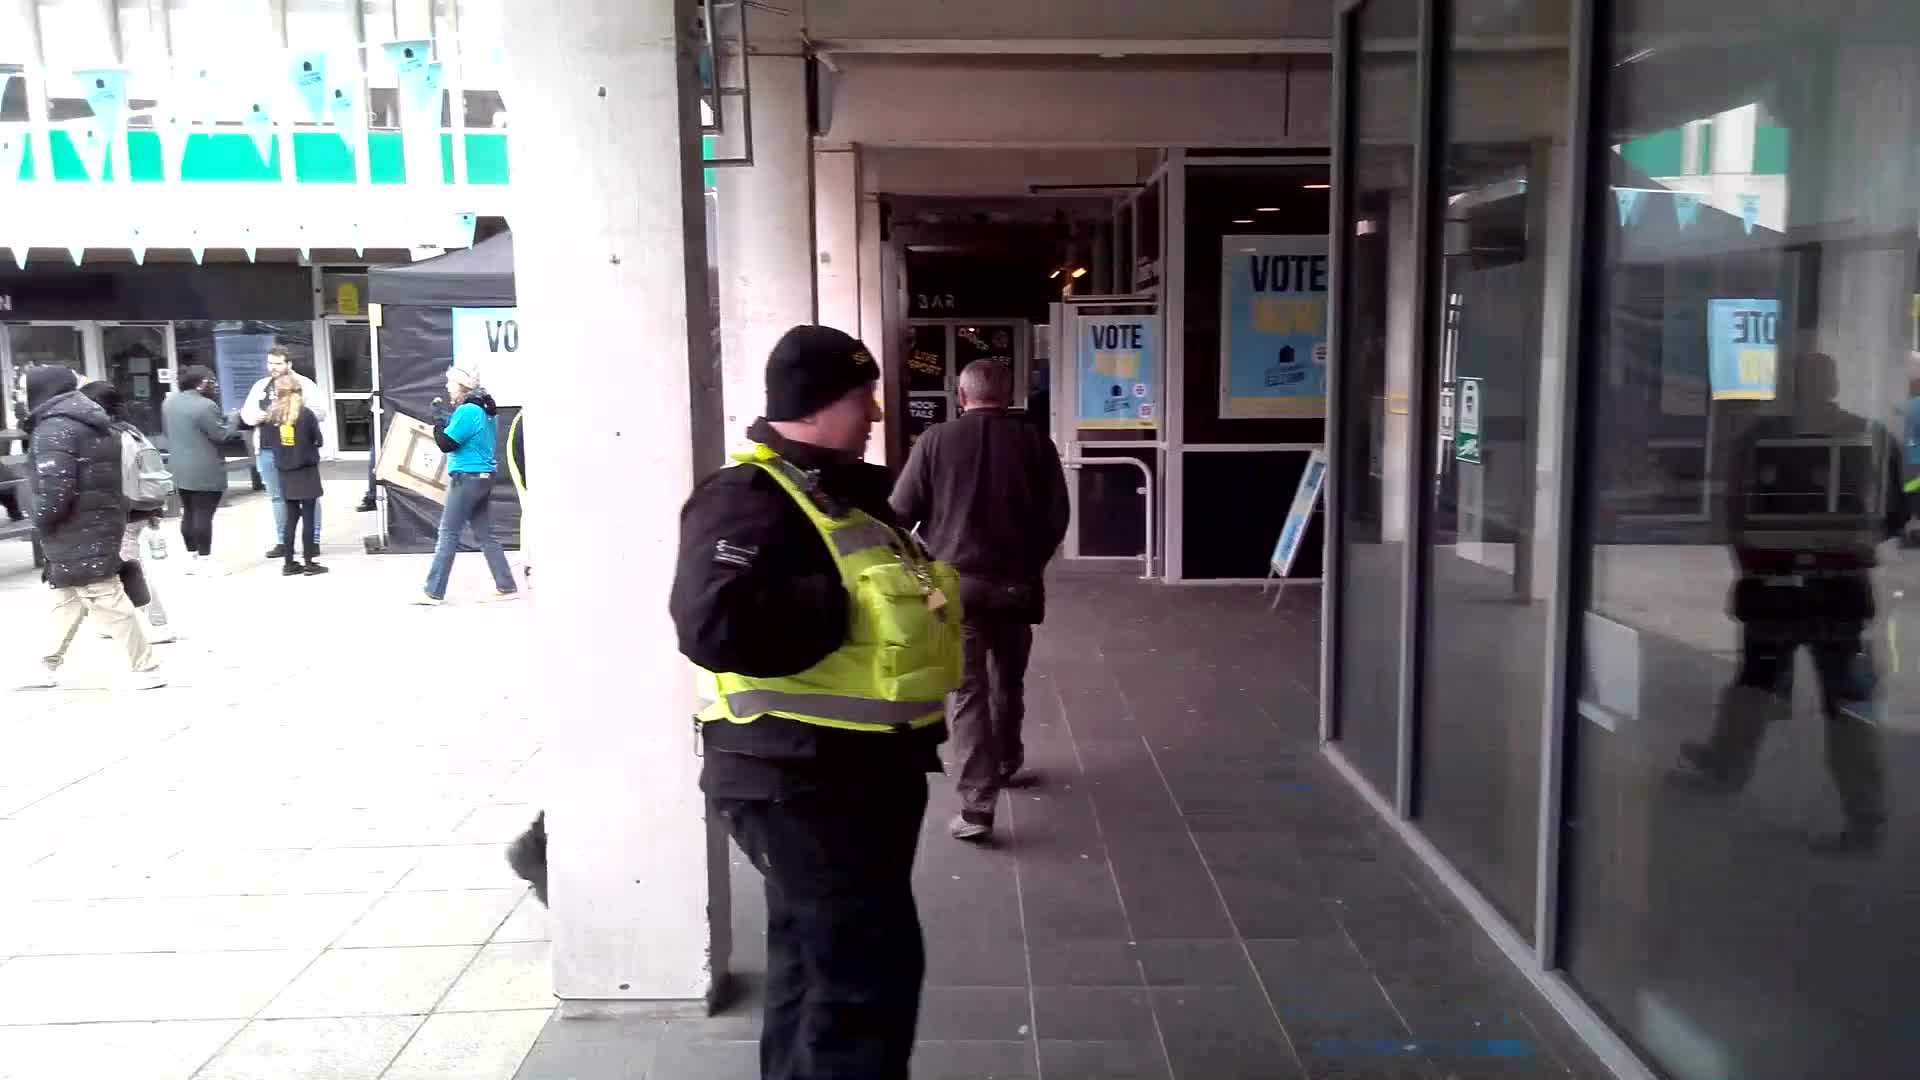Person: (713, 327, 949, 1080), (936, 351, 1048, 809)
